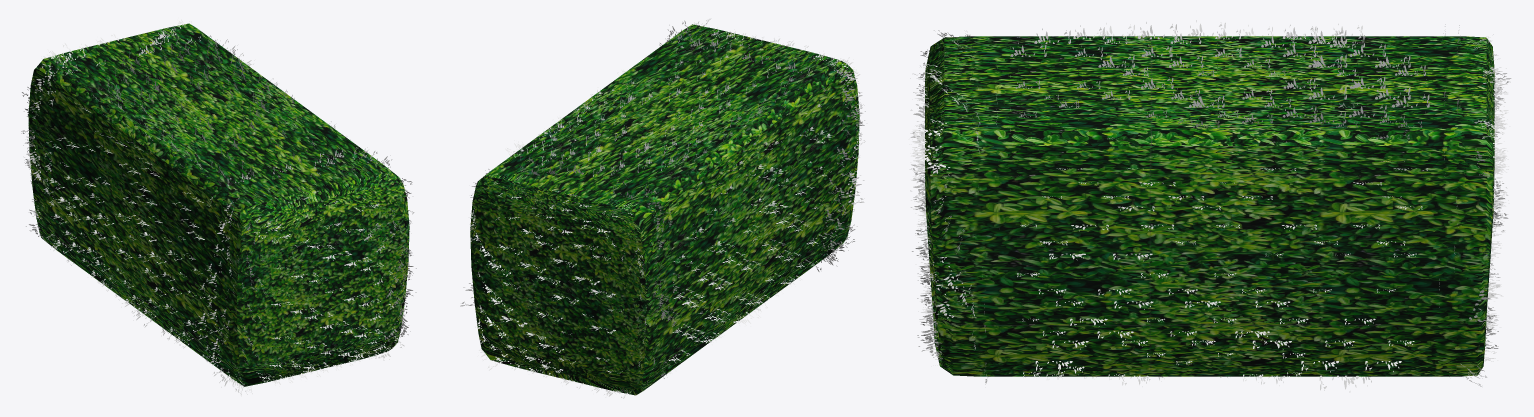
The model's file is Żywopłot.fbx.
3 renders of one model, left to right at view 1: azimuth 30°, elevation 25°; view 2: azimuth 150°, elevation 25°; view 3: azimuth 270°, elevation 25°, orthographic. The views are drawn at different scales.
Parts seen in each view (by area): view 1: Cube; view 2: Cube; view 3: Cube.
Boxes of the visible parts, x1,y1,x2,y2 form: Cube: (28, 23, 409, 386); Cube: (470, 24, 859, 395); Cube: (925, 36, 1494, 376).
Size of the model in its own units: 57.6 by 59.49 by 112.
2 materials, 1 textured.
